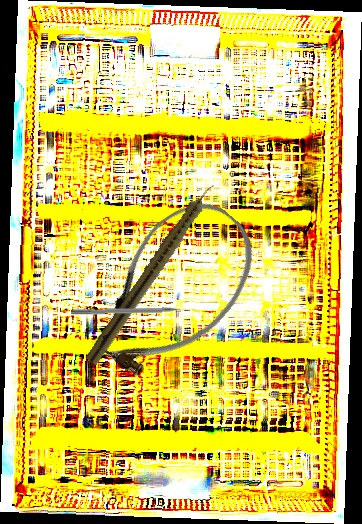Cannula: (71, 182, 277, 397)
Handpiece: (84, 179, 221, 368)
Pusher: (70, 306, 197, 317)
